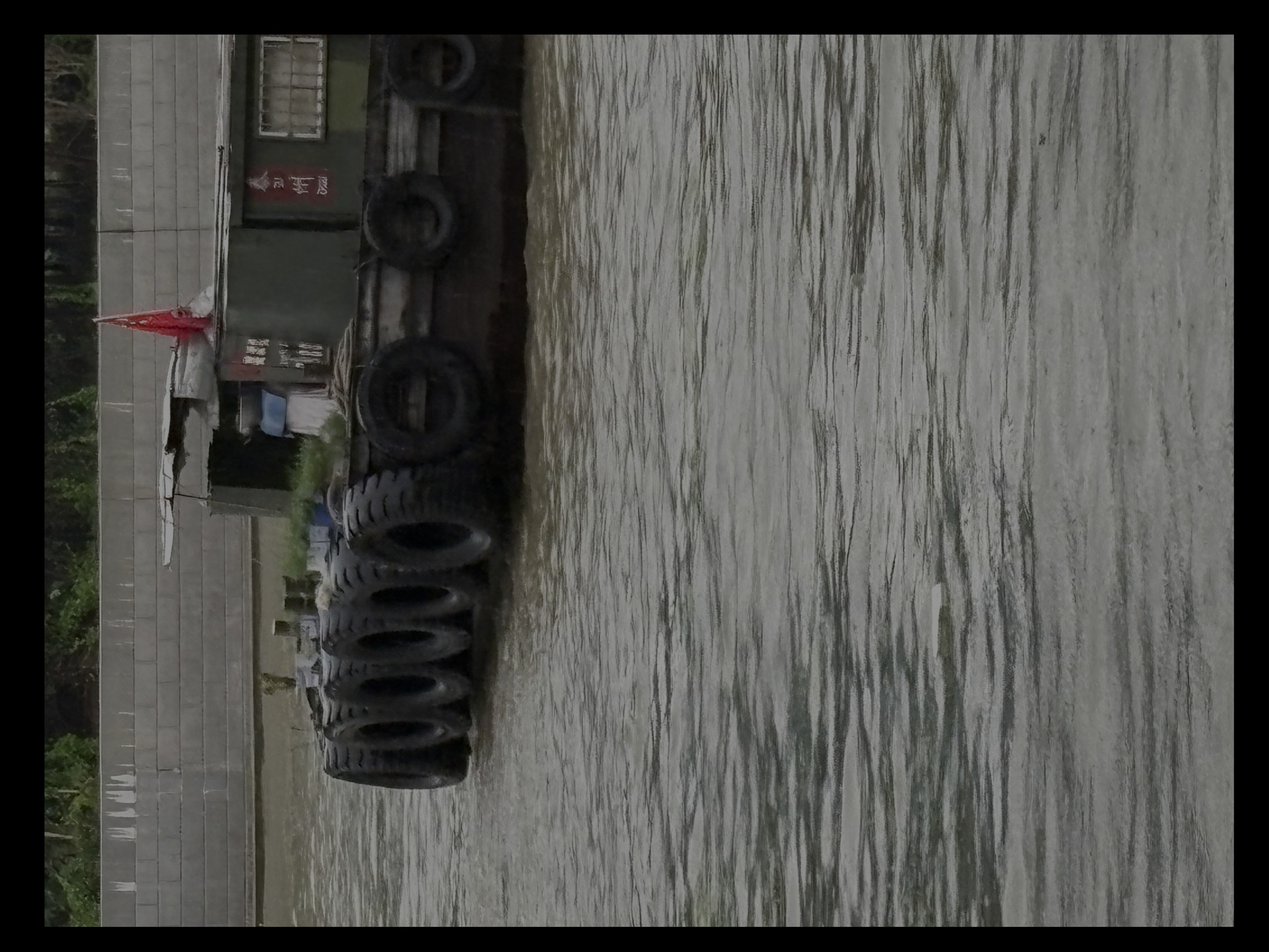Plastic wastes: (945, 572, 967, 652)
